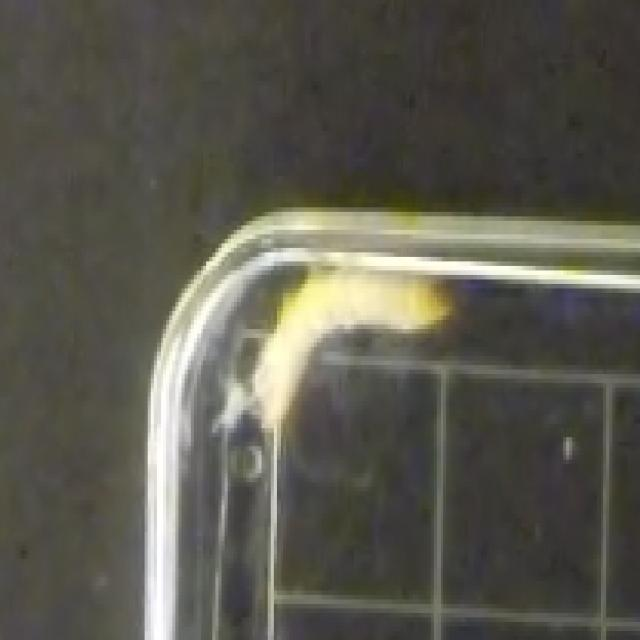larva: (252, 274, 453, 436)
